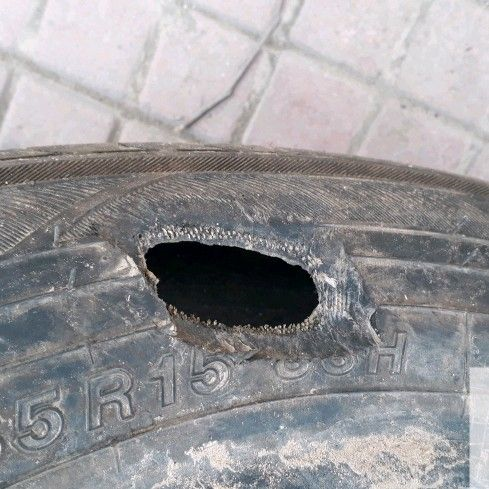bead_damage: (127, 214, 389, 372)
